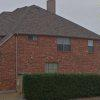Chimney: (41, 1, 59, 13)
